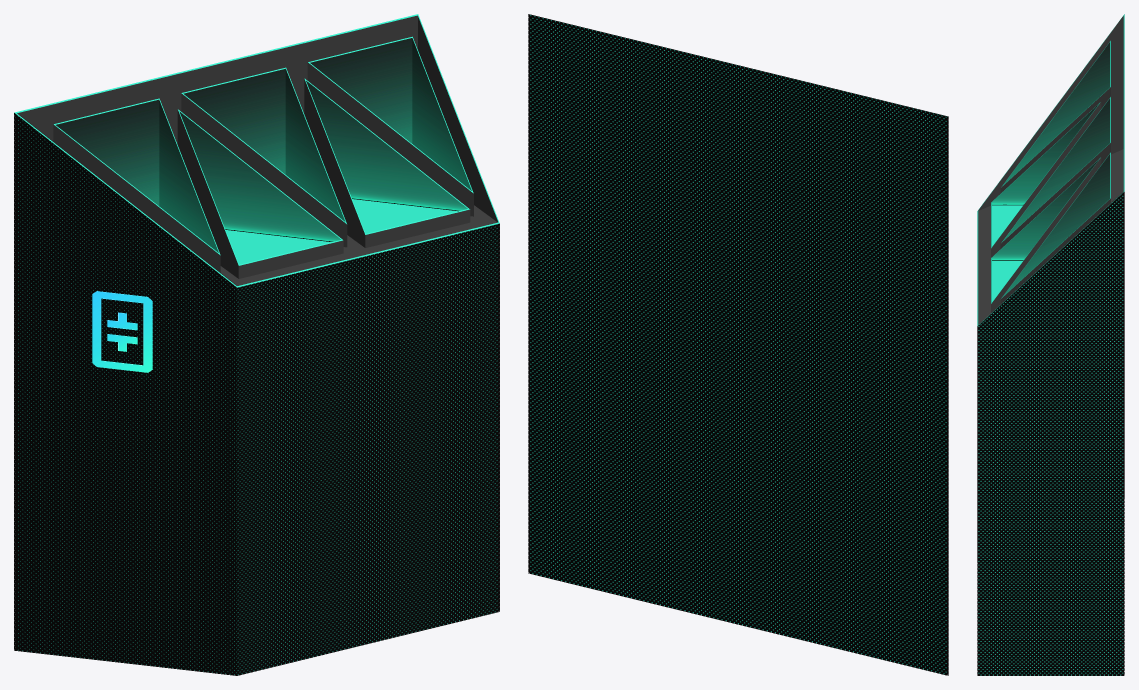
The model's file is theta-exterior.glb.
3 views of the same model, side by side, from view 1: azimuth 30°, elevation 25°; view 2: azimuth 150°, elevation 25°; view 3: azimuth 270°, elevation 25° (orthographic). The views are drawn at different scales.
Parts seen in each view (by area): view 1: Exterior_1_Dot_Diagonal.002, Exterior_2_Dot_Diagonal.001, Triangulos_Gradiente.001, Exterior_Emissib, Floor_General_Piso.001, Terraza_Color_Pleno, Logo_T; view 2: Exterior_1_Dot_Diagonal.002, Exterior_Emissib, Exterior_2_Dot_Diagonal.001; view 3: Exterior_1_Dot_Diagonal.002, Exterior_Emissib, Triangulos_Gradiente.001, Exterior_2_Dot_Diagonal.001, Floor_General_Piso.001, Terraza_Color_Pleno.
Part boxes in pixels (x1,y1,x2,y2): Exterior_1_Dot_Diagonal.002: (14,113,499,675); Exterior_2_Dot_Diagonal.001: (16,115,497,675); Triangulos_Gradiente.001: (56,38,471,252); Exterior_Emissib: (18,116,497,674); Floor_General_Piso.001: (17,15,498,285); Terraza_Color_Pleno: (14,14,499,287); Logo_T: (92,291,152,372); Exterior_1_Dot_Diagonal.002: (528,14,948,675); Exterior_Emissib: (530,15,946,673); Exterior_2_Dot_Diagonal.001: (530,16,946,674); Exterior_1_Dot_Diagonal.002: (977,192,1124,675); Exterior_Emissib: (978,196,1123,675); Triangulos_Gradiente.001: (992,42,1109,296); Exterior_2_Dot_Diagonal.001: (978,194,1123,675); Floor_General_Piso.001: (978,16,1123,324); Terraza_Color_Pleno: (977,14,1124,325).
Size of what is drawn, in the model's own units: 60 by 76.35 by 21.
Materials: 5 (3 with a texture image).
